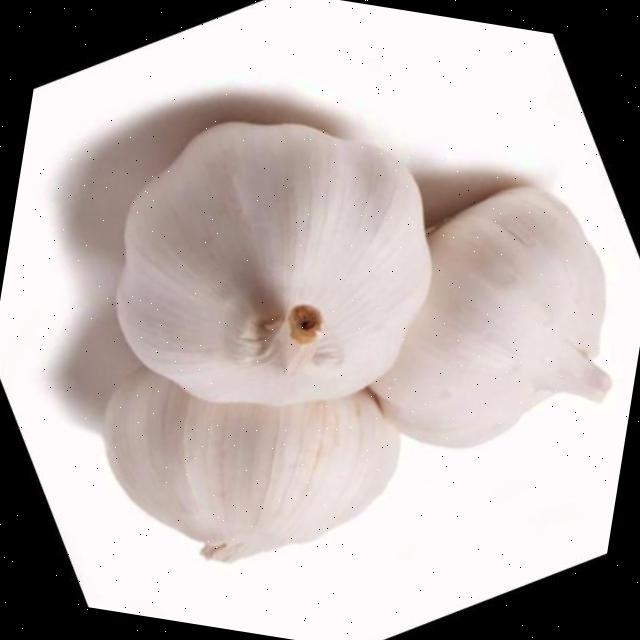garlic: (116, 121, 431, 405), (369, 186, 609, 447), (102, 369, 399, 561)
